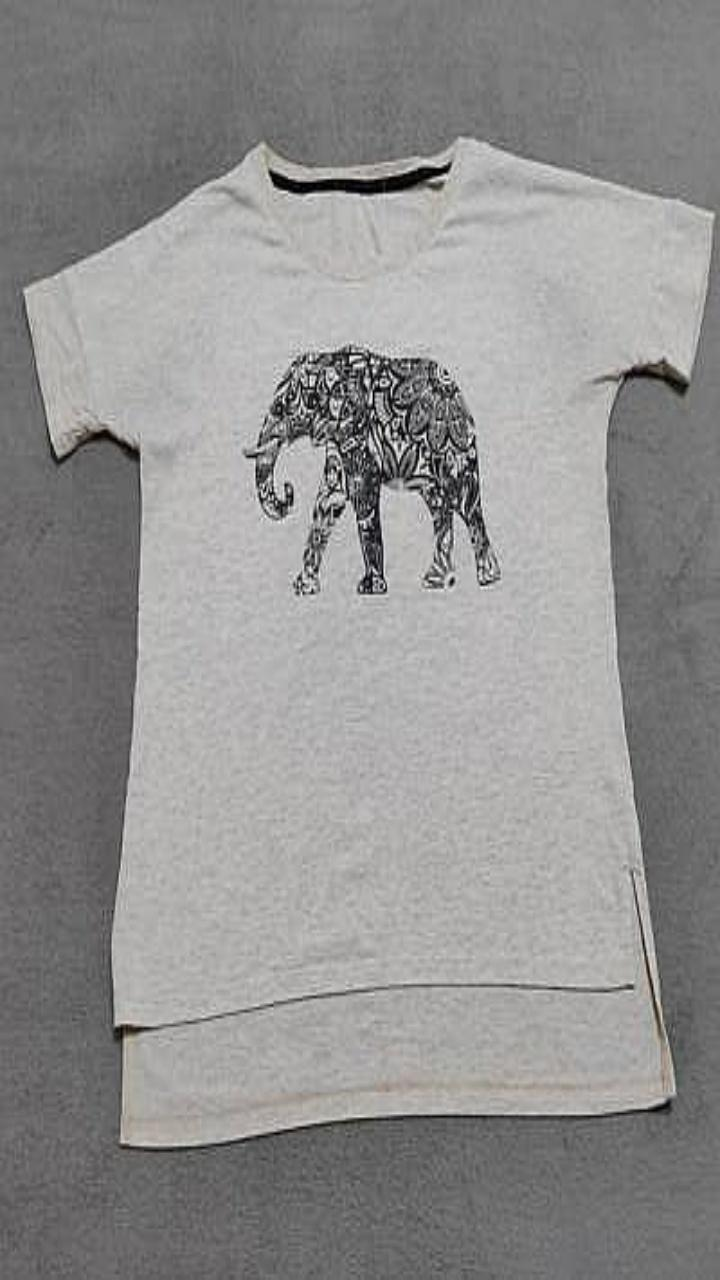T-Shirt: (23, 136, 714, 1145)
